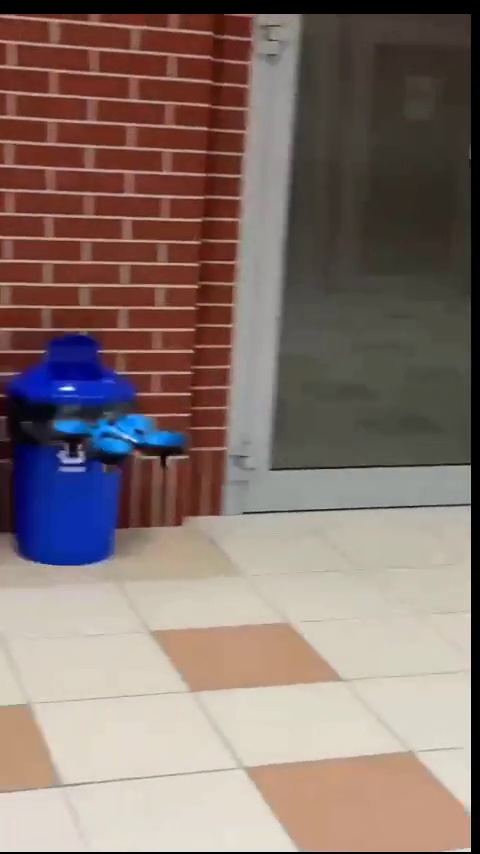drone: (51, 410, 190, 482)
